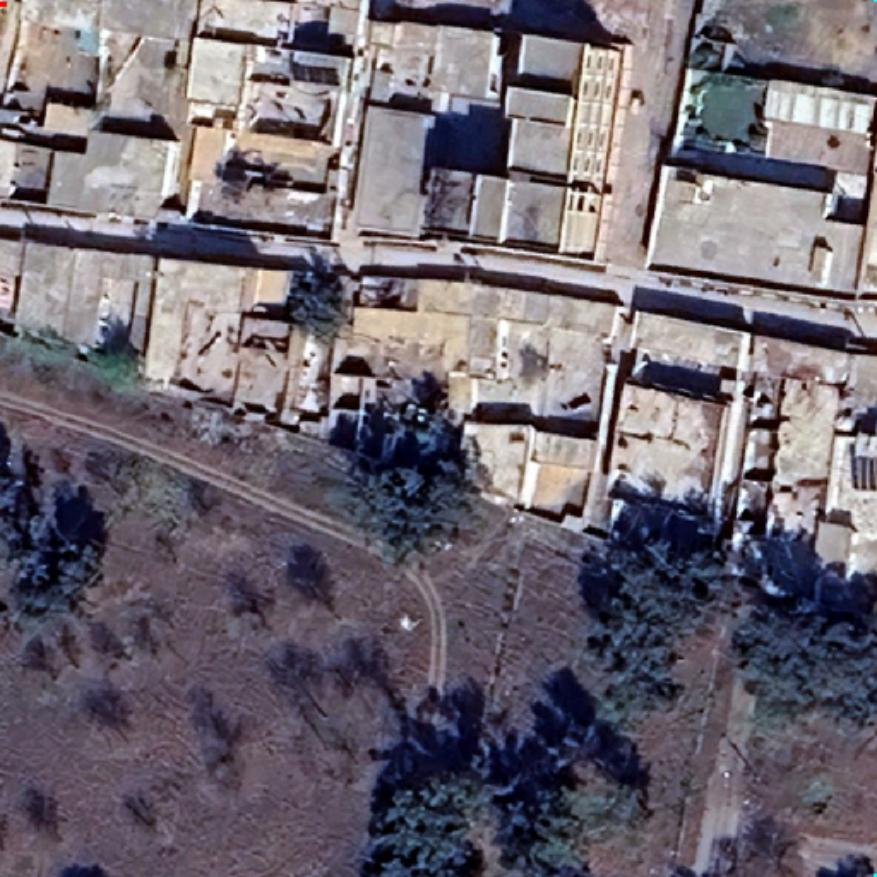Solarpanel: (289, 60, 344, 88), (849, 453, 877, 493)
